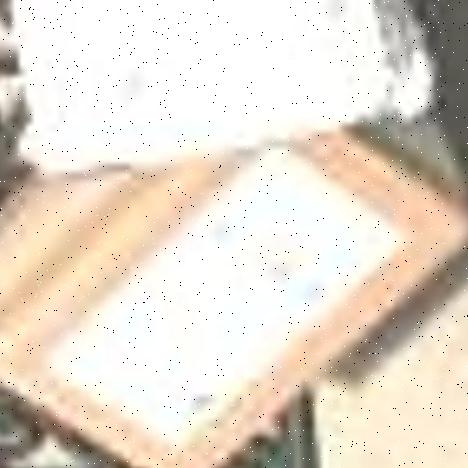Other: (0, 136, 468, 468)
